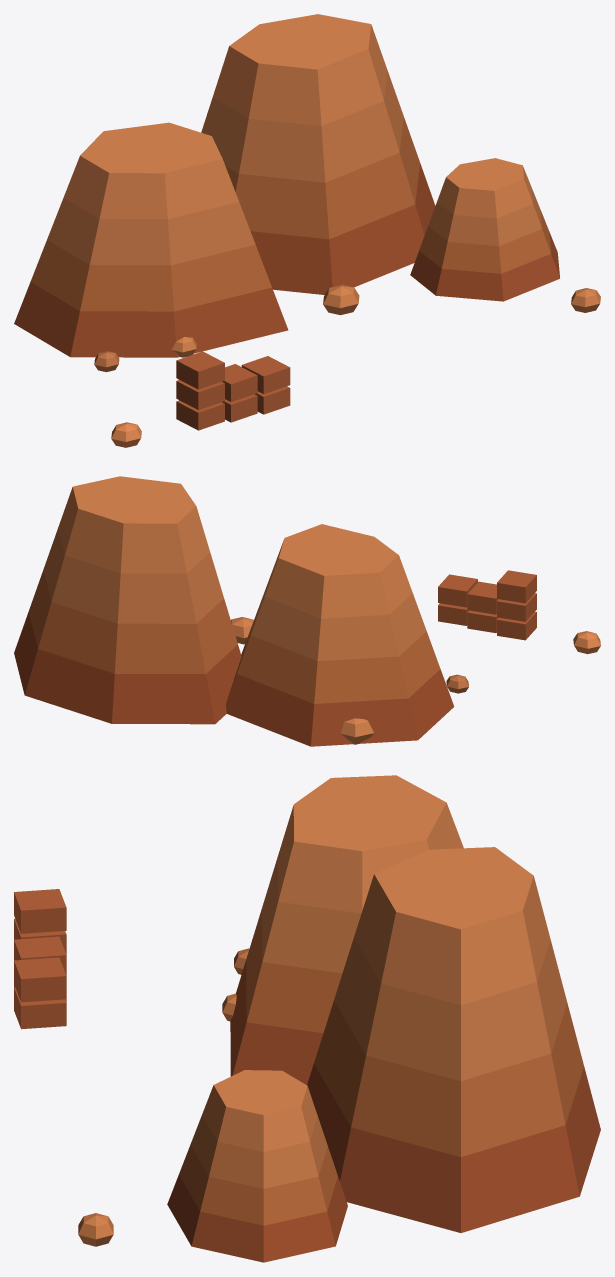
File: terrain-hill-1.glb
The picture shows the model from 3 angles, top to bottom: view 1: azimuth 30°, elevation 25°; view 2: azimuth 150°, elevation 25°; view 3: azimuth 270°, elevation 25°; orthographic projection. The views are drawn at different scales.
Visible parts, largest first — view 1: terrain-hill-1.003, terrain-hill-1, terrain-hill-1.001, terrain-hill-1.002, terrain-hill-1.004, terrain-hill-1.006, terrain-hill-1.005; view 2: terrain-hill-1.003, terrain-hill-1, terrain-hill-1.001, terrain-hill-1.002, terrain-hill-1.004, terrain-hill-1.006, terrain-hill-1.005; view 3: terrain-hill-1.003, terrain-hill-1, terrain-hill-1.001, terrain-hill-1.002, terrain-hill-1.004, terrain-hill-1.006.
Part boxes in pixels (x1,y1,x2,y2): terrain-hill-1.003: (63,14,532,219); terrain-hill-1: (14,163,559,357); terrain-hill-1.001: (30,116,550,311); terrain-hill-1.002: (47,71,541,265); terrain-hill-1.004: (176,351,290,430); terrain-hill-1.006: (171,285,600,357); terrain-hill-1.005: (111,422,141,447); terrain-hill-1.003: (58,476,412,618); terrain-hill-1: (14,612,454,746); terrain-hill-1.001: (28,570,440,703); terrain-hill-1.002: (43,529,426,661); terrain-hill-1.004: (438,570,536,640); terrain-hill-1.006: (231,617,373,744); terrain-hill-1.005: (573,631,600,654); terrain-hill-1.003: (202,775,550,1151); terrain-hill-1: (167,960,600,1262); terrain-hill-1.001: (179,909,583,1225); terrain-hill-1.002: (190,856,567,1188); terrain-hill-1.004: (14,889,66,1029); terrain-hill-1.006: (78,993,236,1246).
Bounding box in the file's own units: 1.23 × 0.451 × 0.8928.
